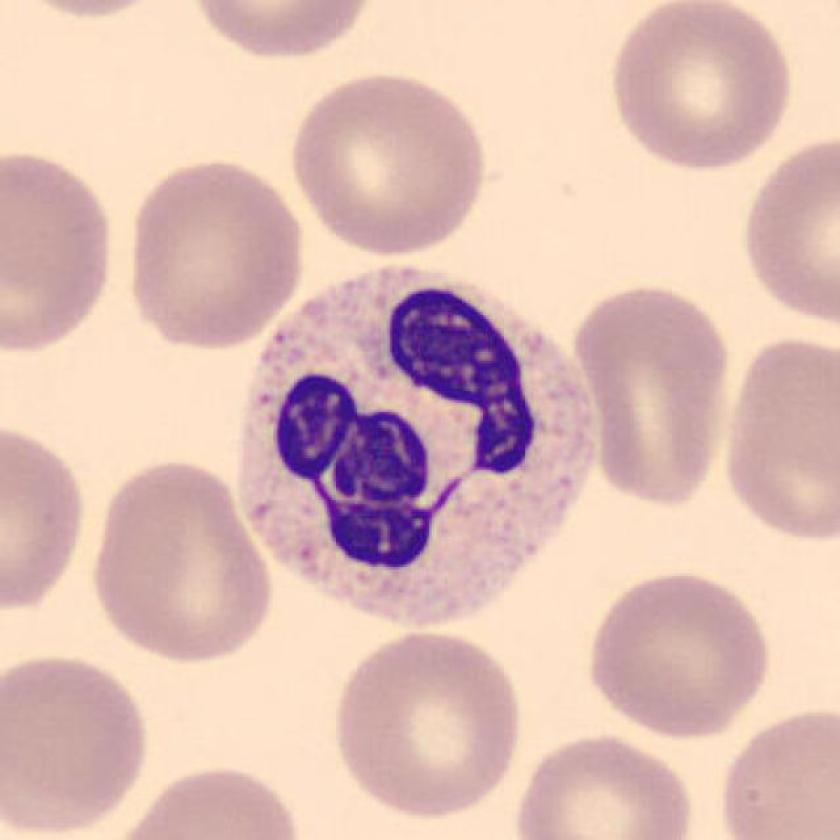neutrophil: (241, 262, 600, 622)
